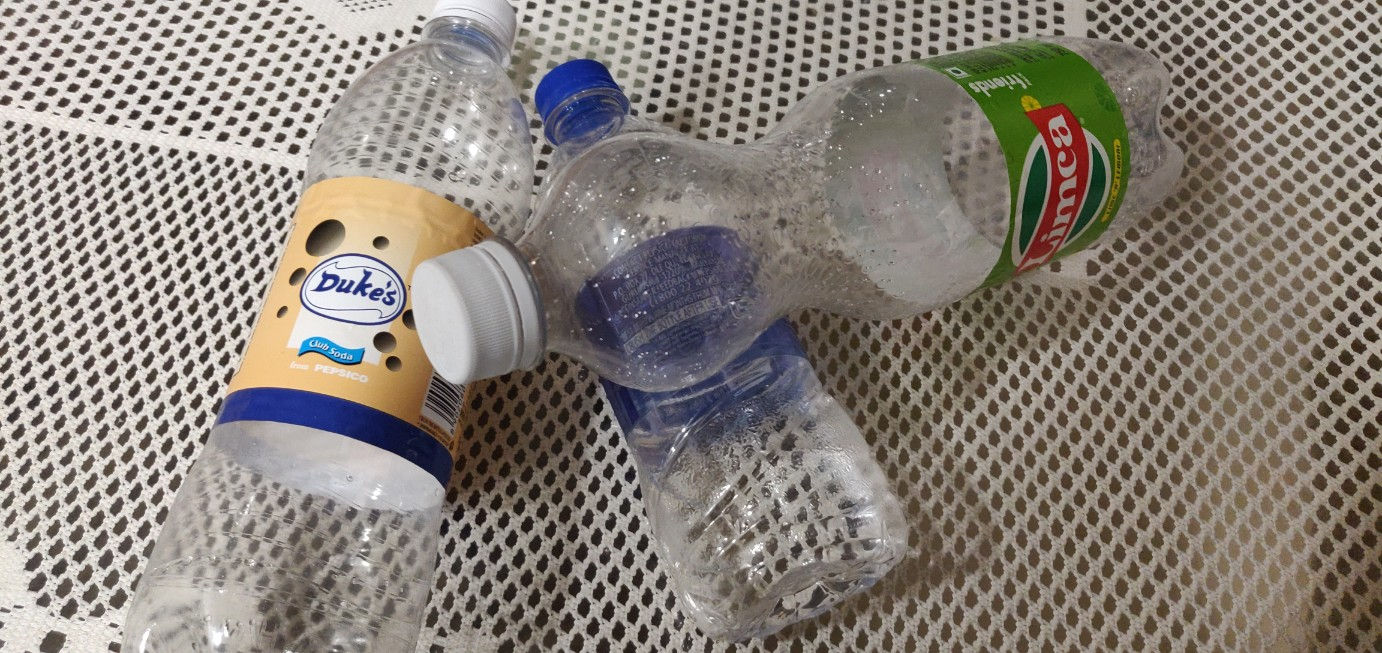Electronics: (402, 16, 1245, 410), (115, 2, 554, 653), (495, 41, 958, 652)
